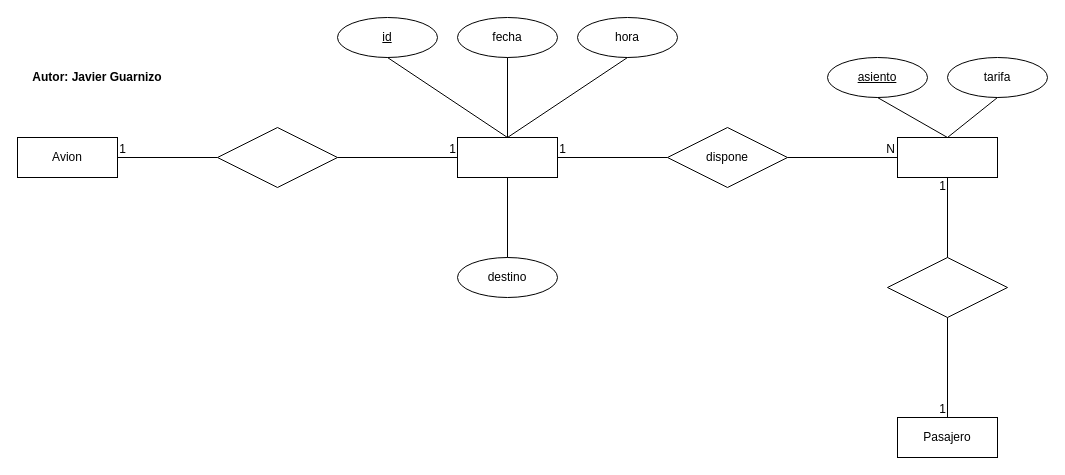
Some shapes in this 1065 by 475 pixel diagram are drawn without their labels. Here are the shapes that lost their labels. From the top down, the box of each, then its label:
(216, 126, 338, 188): cubre
(456, 136, 558, 178): Vuelo
(896, 136, 998, 178): Reserva
(886, 256, 1008, 318): es realizada
